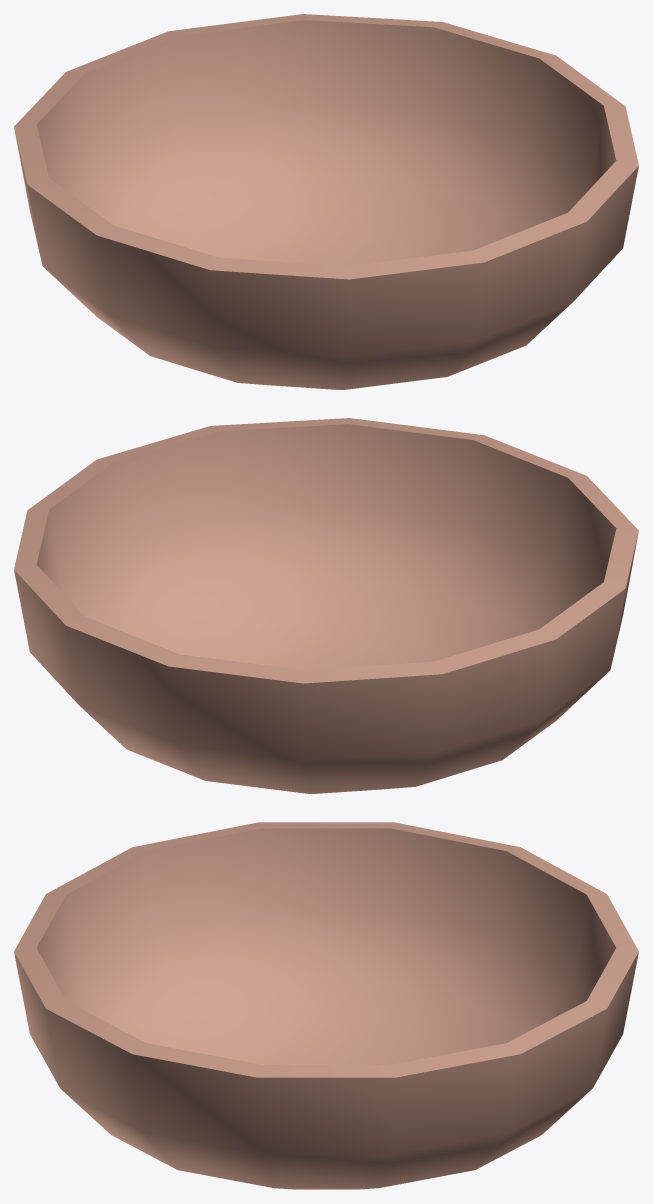
Rendered from Bowl3_geo.fbx.
3 renders of one model, top to bottom at view 1: azimuth 30°, elevation 25°; view 2: azimuth 150°, elevation 25°; view 3: azimuth 270°, elevation 25°, orthographic.
Parts seen in each view (by area): view 1: Bowl3_geo; view 2: Bowl3_geo; view 3: Bowl3_geo.
Boxes of the visible parts, x1,y1,x2,y2 form: Bowl3_geo: (14, 14, 638, 389); Bowl3_geo: (14, 418, 638, 793); Bowl3_geo: (14, 822, 638, 1189).
Bounding box in the file's own units: 0.6251 × 0.6467 × 0.2195.
